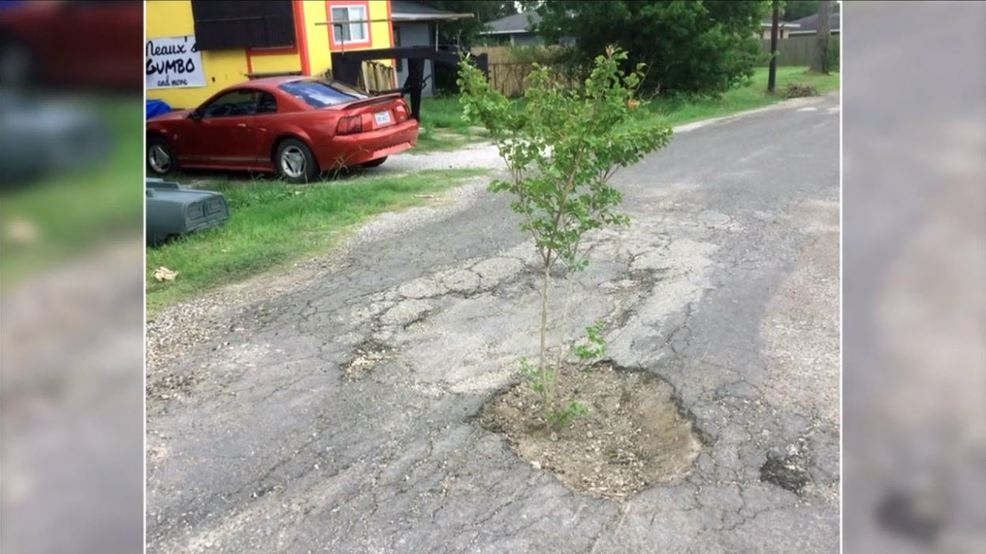pothole: (440, 345, 737, 508)
